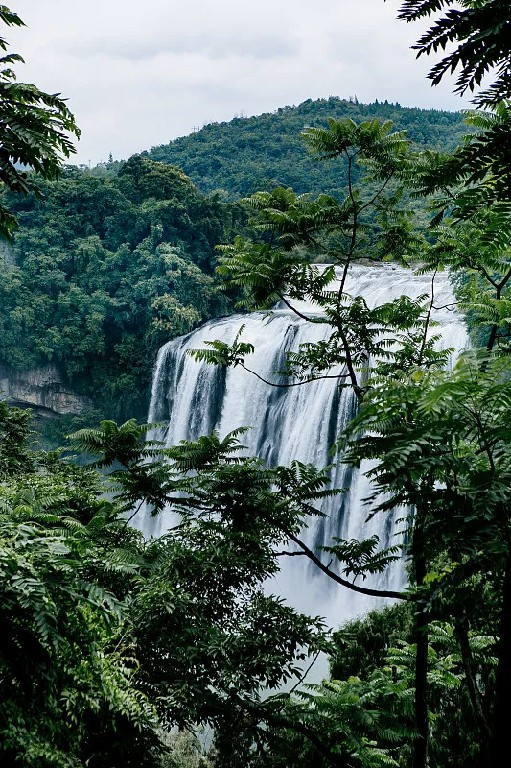Huangguoshu: (131, 262, 473, 629)
